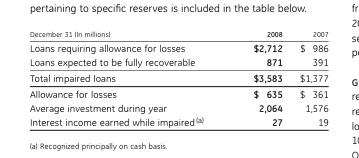table: (28, 29, 327, 126)
table column: (28, 29, 227, 126), (227, 29, 290, 126), (290, 29, 327, 126)
table column header: (28, 29, 327, 39)
table row: (28, 69, 327, 85), (28, 39, 327, 54), (28, 54, 327, 69), (28, 85, 327, 100), (28, 100, 327, 113), (28, 113, 327, 126), (28, 29, 327, 39)
